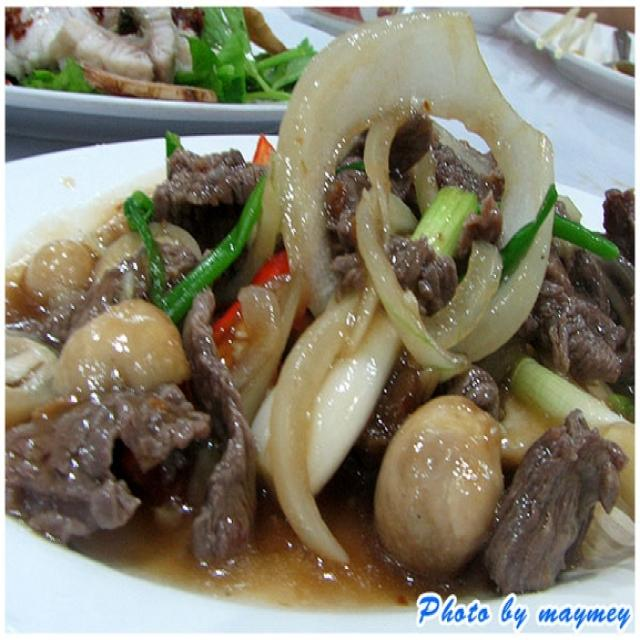牛肉菜式: (23, 11, 626, 610)
